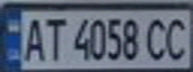0: (87, 15, 109, 62)
4: (69, 15, 90, 62)
5: (106, 15, 127, 62)
8: (121, 15, 145, 62)
A: (18, 14, 48, 63)
C: (163, 14, 193, 62), (142, 15, 172, 62)
T: (39, 14, 69, 62)
